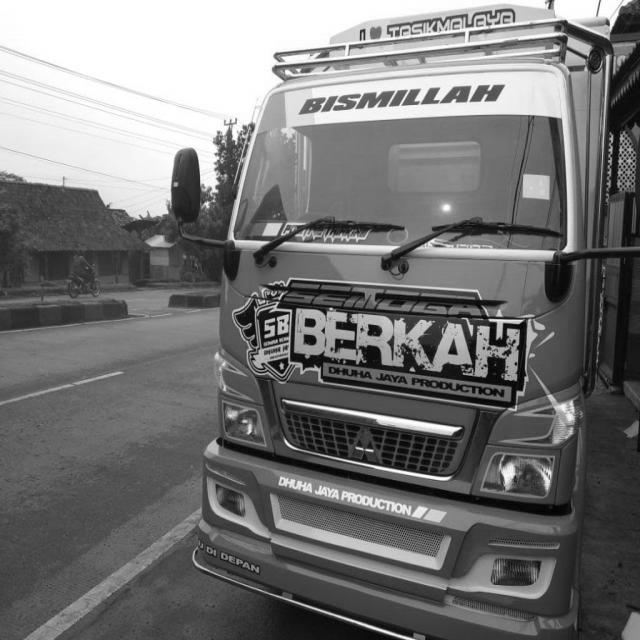truck: (171, 4, 640, 640)
